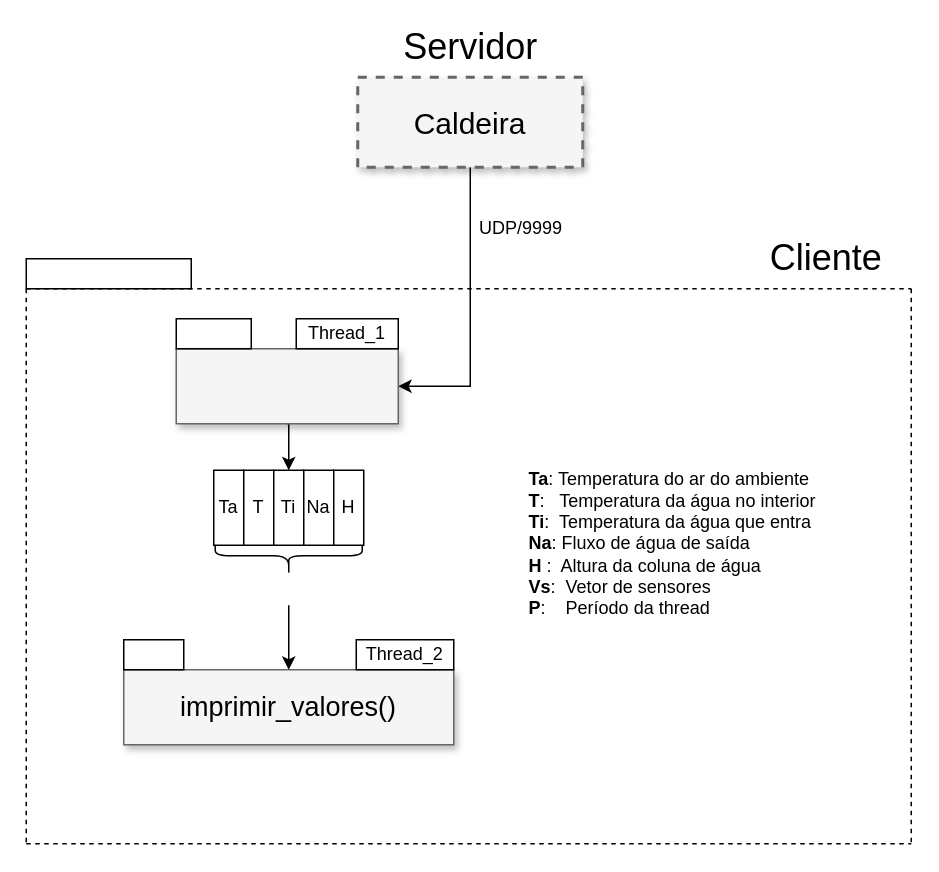
The diagram is 939 pixels wide and 872 high, and some of its shapes have lost their labels. Here are the shapes that lost their labels. From the top down, the centre of each, then its label:
At (108,273): "controlemanual.c".
At (213,333): "P: 0.5s".
At (288,387): "ler_sensores()".
At (288,559): "Vs".
At (153,654): "P: 1s".
